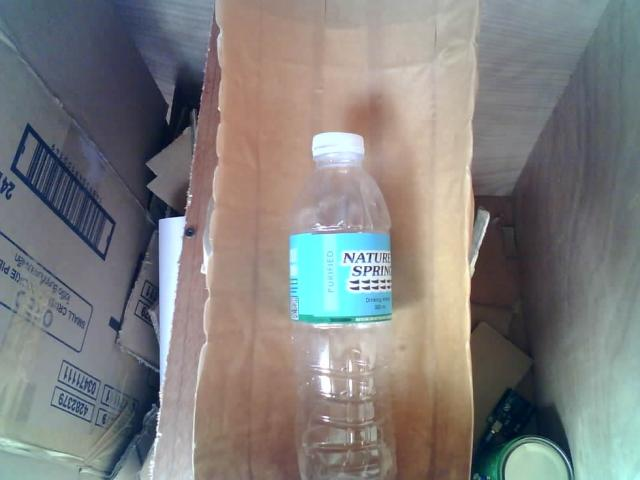small_bottle: (271, 113, 414, 480)
